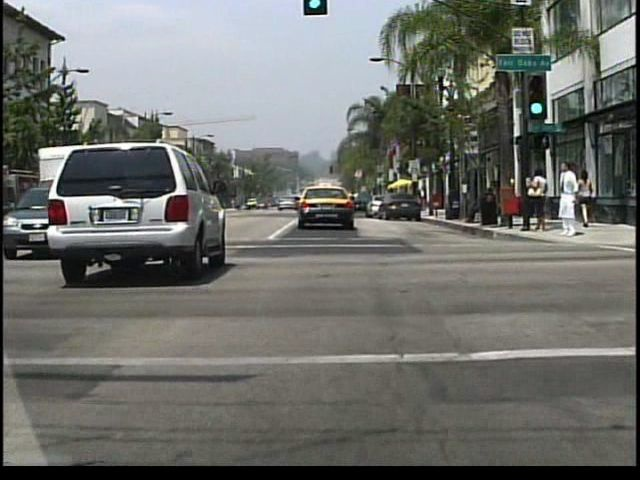person: (556, 160, 578, 237), (528, 164, 549, 235), (575, 168, 596, 230), (461, 189, 485, 225), (483, 179, 496, 222), (418, 186, 428, 213)
